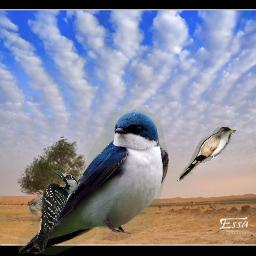Cuckoo: (177, 127, 236, 182)
Swallow: (18, 110, 169, 255)
Woodpecker: (28, 170, 79, 253)
